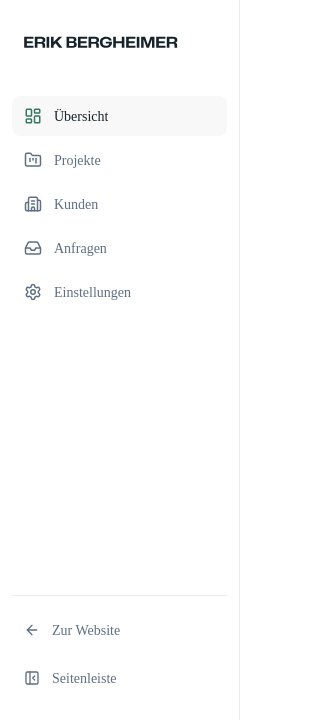
it: Sidebar › AK-3: Einklappen mit aria-expanded, Wahl im Cookie, Namen bleiben
Click the button "Seitenleiste": (120, 678) [12, 656, 227, 700]
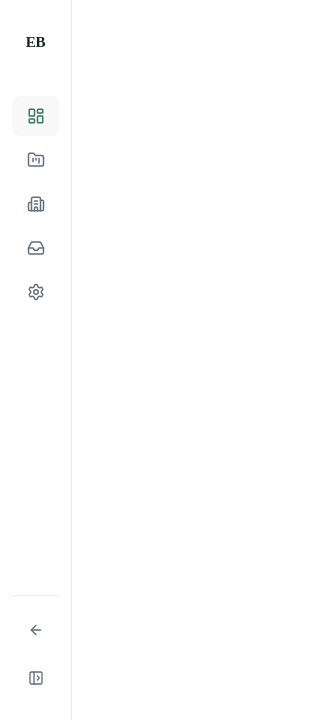
Check: the button named "Seitenleiste" is collapsed, box [12, 656, 59, 700]
